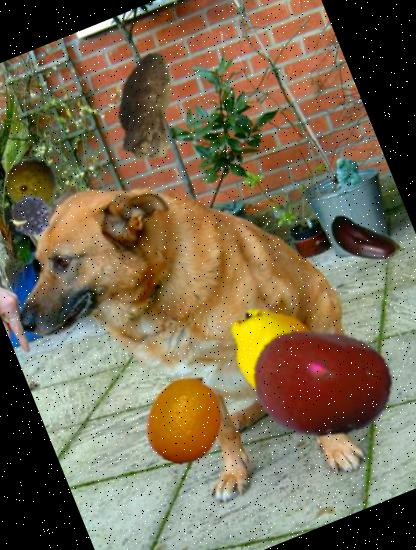Cherry: (232, 289, 416, 473)
Eggplant: (313, 190, 416, 294)
Ginger: (76, 34, 220, 178)
Guava: (0, 147, 68, 219)
Lemon: (127, 359, 244, 478)
Mulberry: (3, 182, 72, 251)
Quince: (210, 285, 346, 420)
